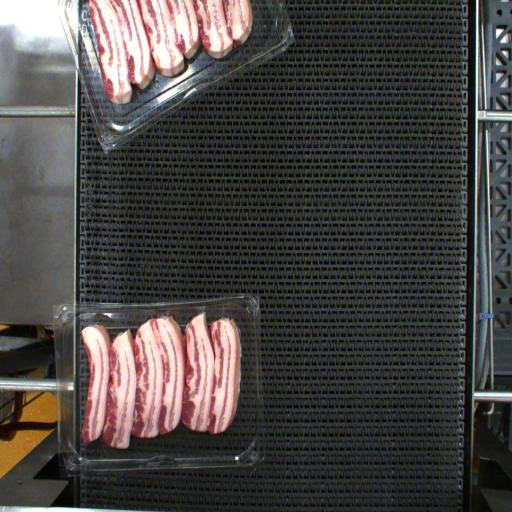packaging-error: (196, 305, 209, 317)
